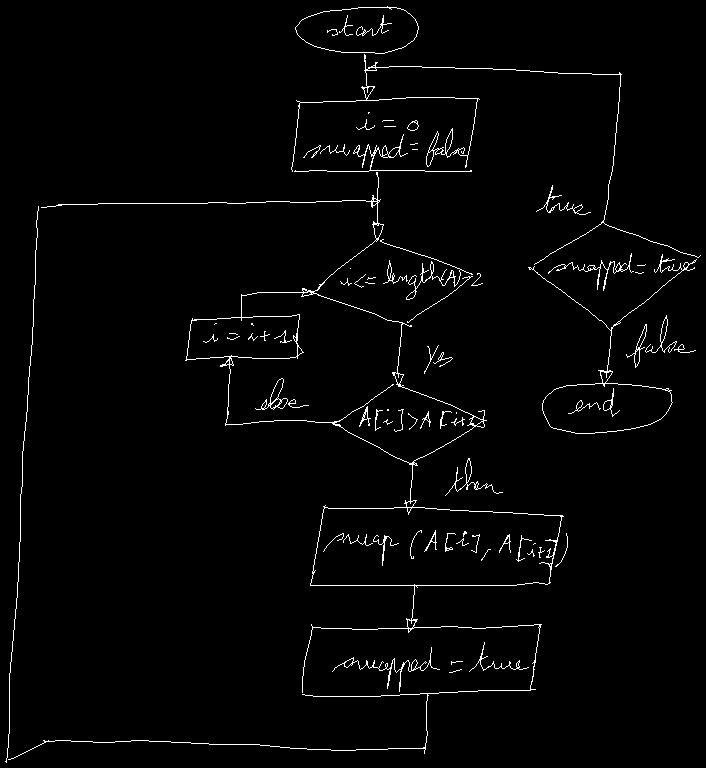arrow: (5, 195, 428, 762), (364, 62, 621, 222), (220, 355, 339, 425), (241, 288, 318, 320), (598, 327, 612, 386), (372, 172, 383, 239), (392, 322, 403, 386), (404, 462, 416, 514), (361, 54, 374, 99), (406, 584, 417, 632)
decision: (528, 220, 700, 330), (308, 238, 472, 326), (332, 384, 486, 465)
process: (310, 505, 563, 585), (302, 624, 541, 696), (291, 97, 479, 171), (185, 314, 303, 360)
terminator: (542, 383, 672, 433), (295, 6, 418, 53)
text: (332, 642, 528, 691), (303, 112, 466, 169), (323, 530, 567, 566), (340, 260, 482, 299), (548, 253, 694, 290), (626, 315, 695, 367), (359, 406, 484, 431), (445, 458, 502, 495), (203, 323, 291, 342), (255, 378, 308, 409), (536, 185, 590, 214), (568, 388, 619, 416), (327, 15, 391, 35), (424, 345, 452, 373)
